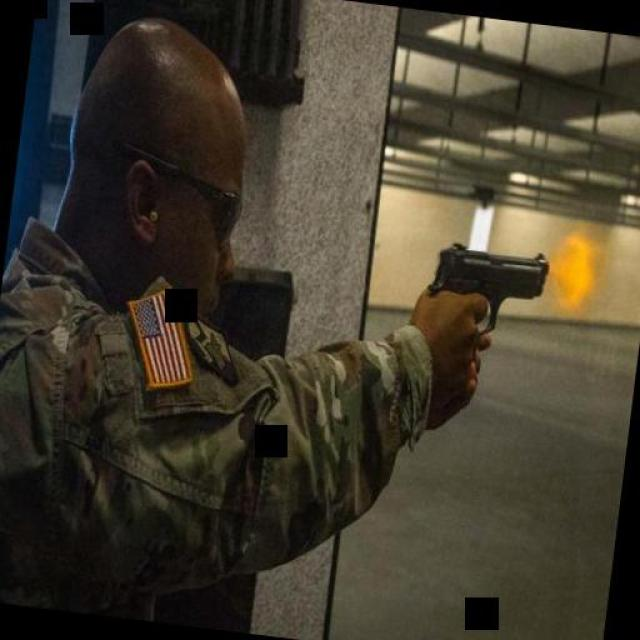gun: (420, 232, 552, 360)
